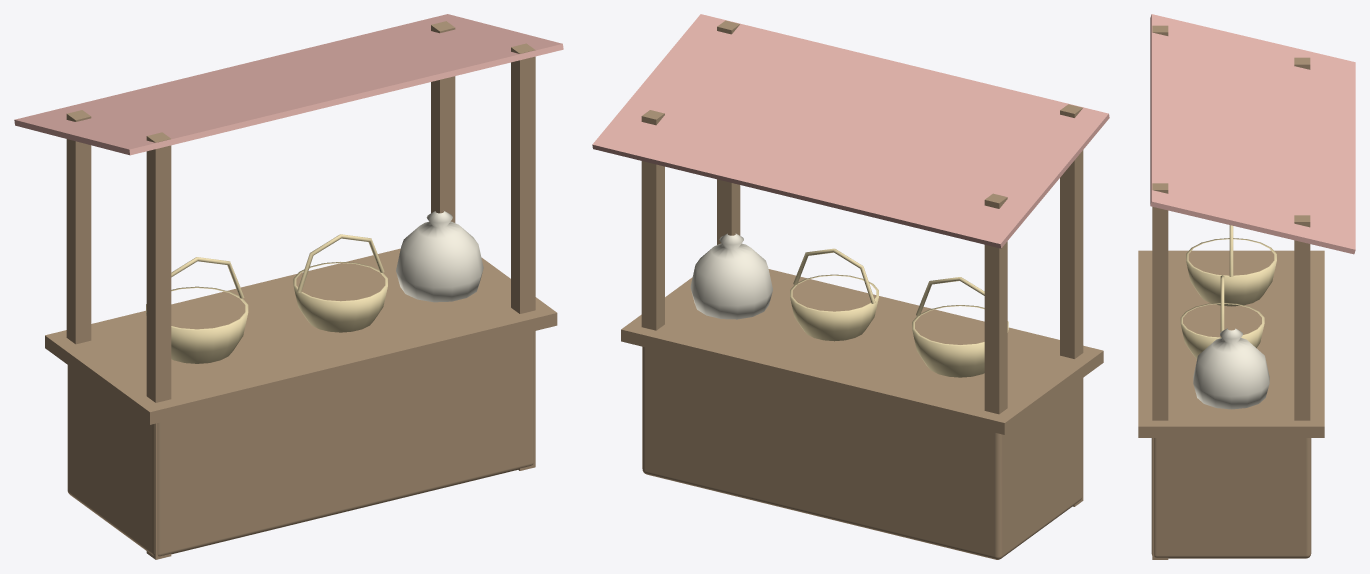
Rendered from stall_small.glb.
3 renders of one model, left to right at view 1: azimuth 30°, elevation 25°; view 2: azimuth 150°, elevation 25°; view 3: azimuth 270°, elevation 25°, orthographic. The views are drawn at different scales.
Visible parts, largest first — view 1: Stall; view 2: Stall; view 3: Stall.
Boxes of the visible parts, x1,y1,x2,y2 form: Stall: [14, 14, 563, 559]; Stall: [592, 14, 1109, 559]; Stall: [1138, 14, 1355, 559].
Bounding box in the file's own units: 2.5 × 2.3 × 1.22.
